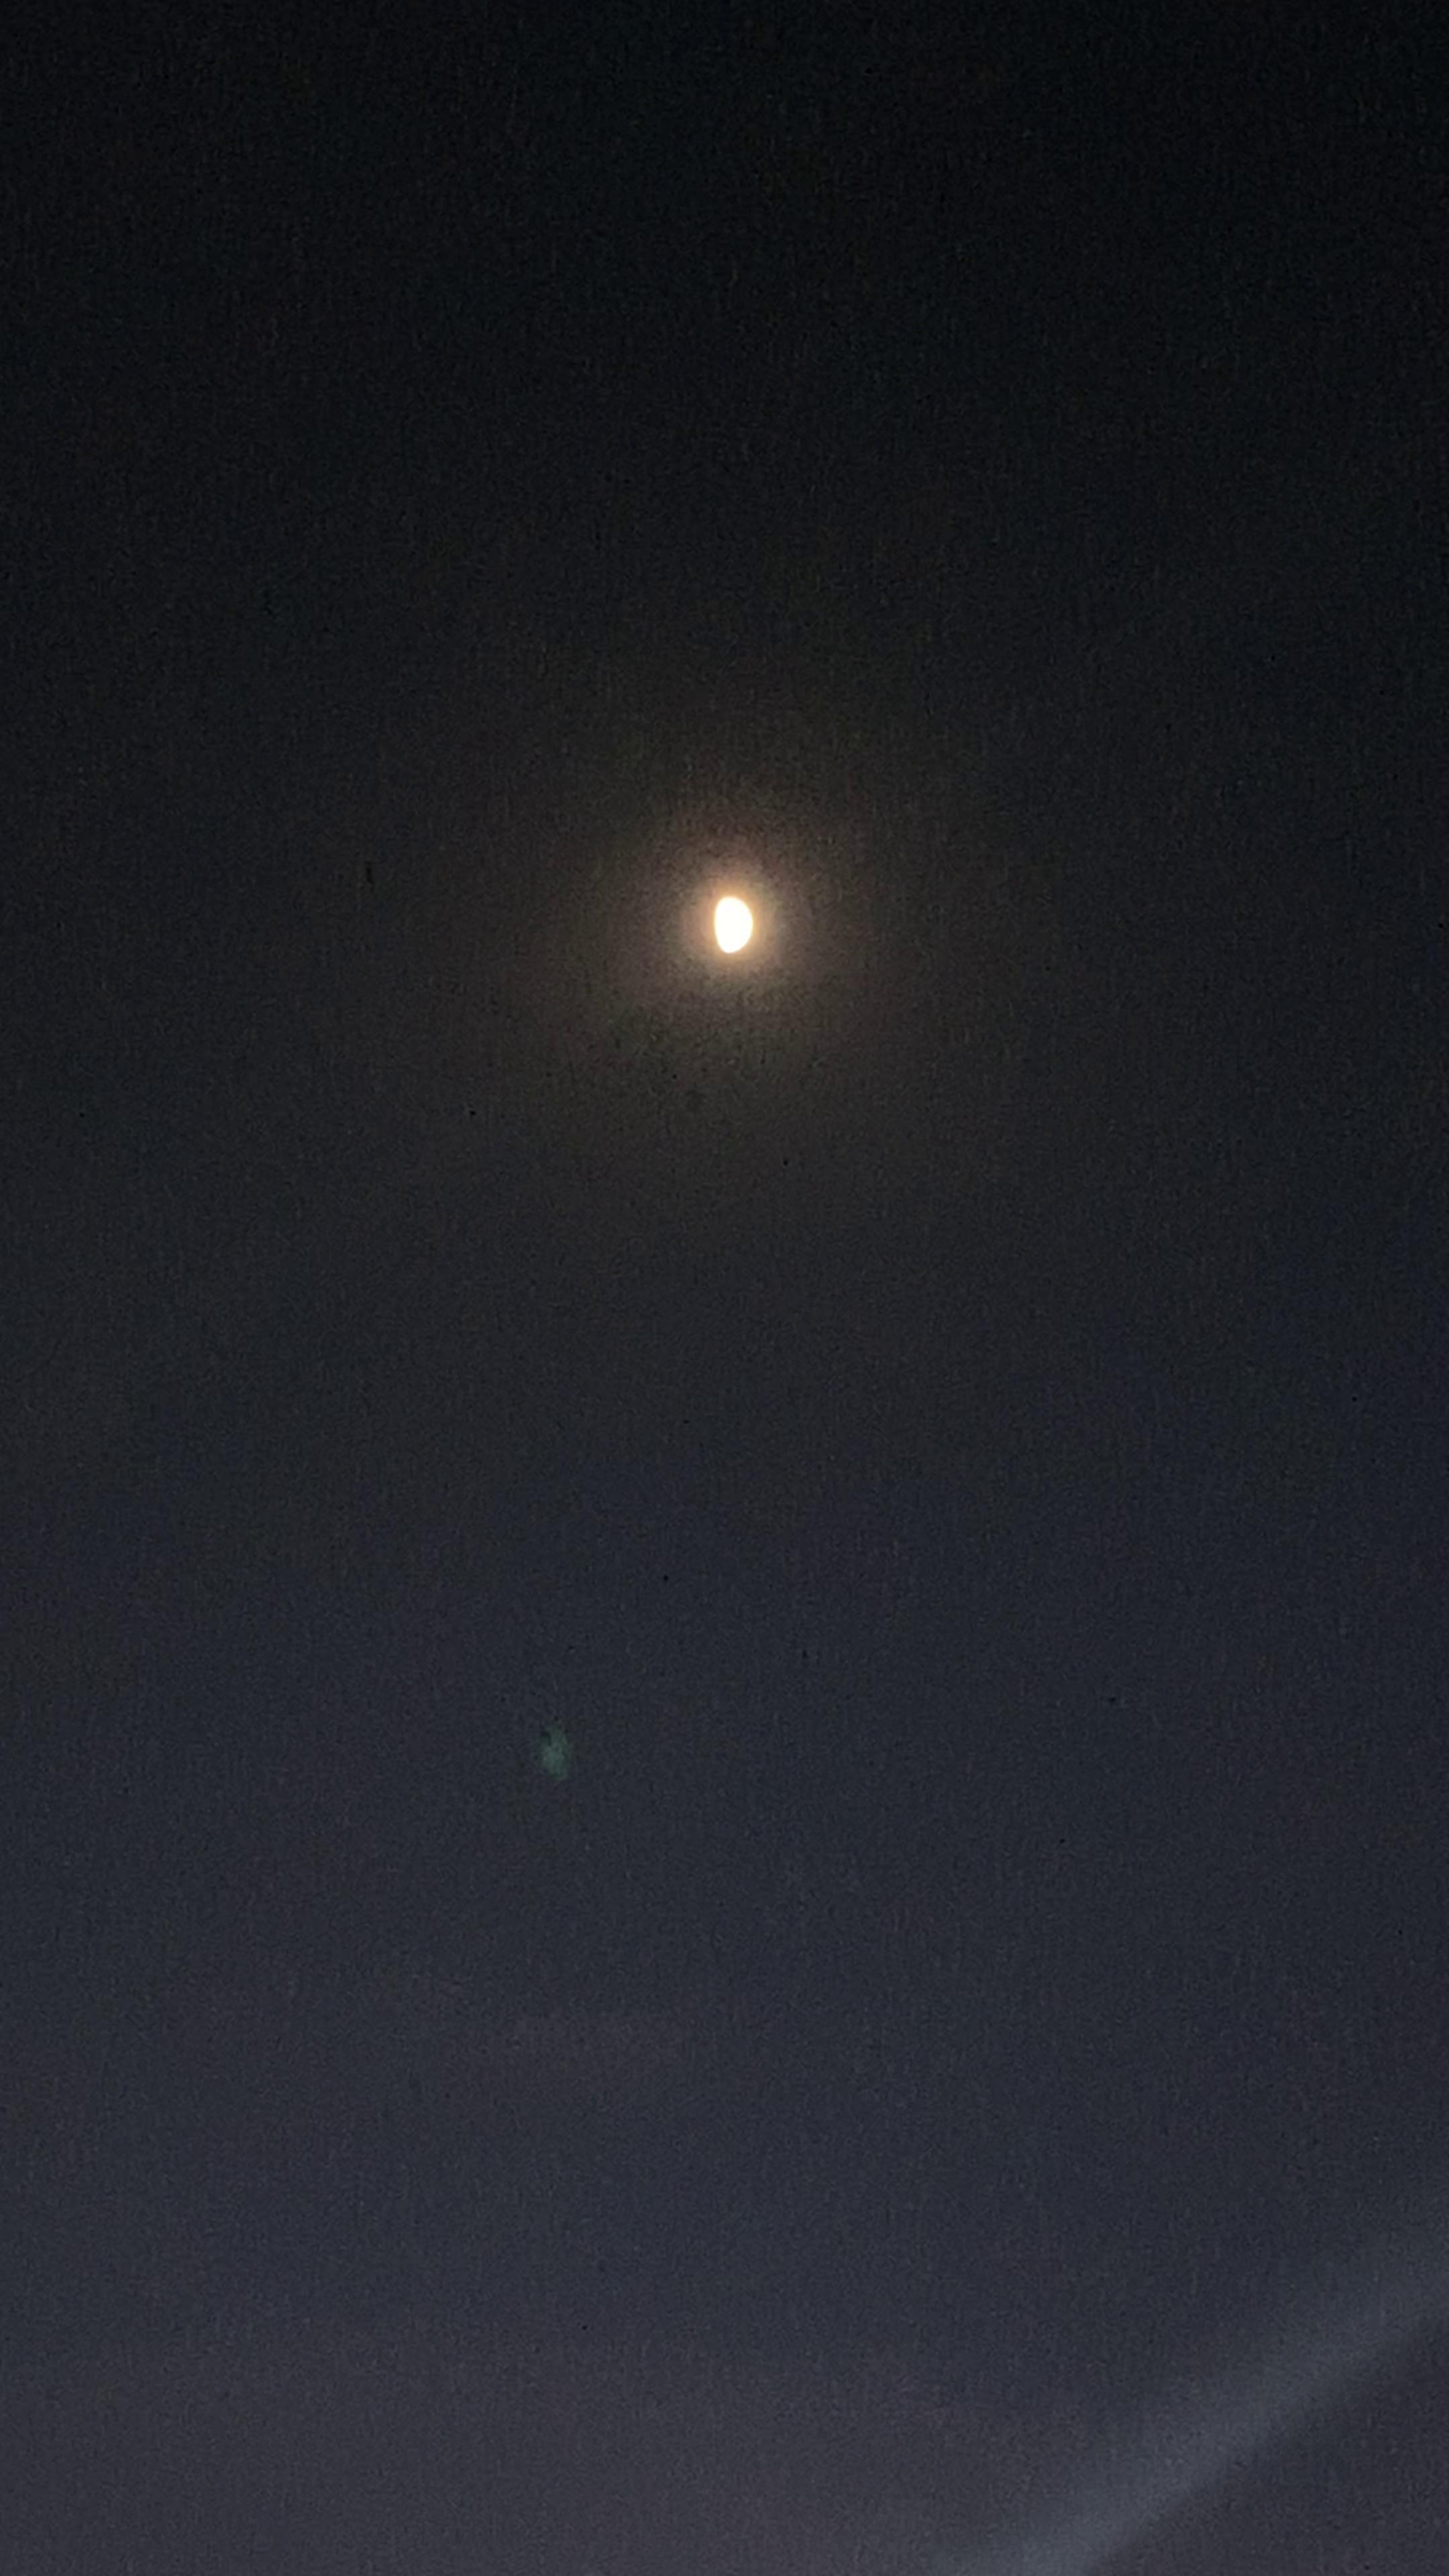moon: (692, 867, 791, 984)
